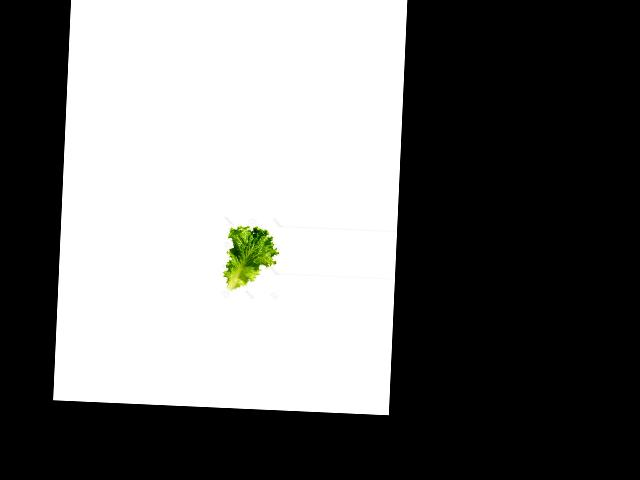lettuce: (225, 225, 279, 292)
